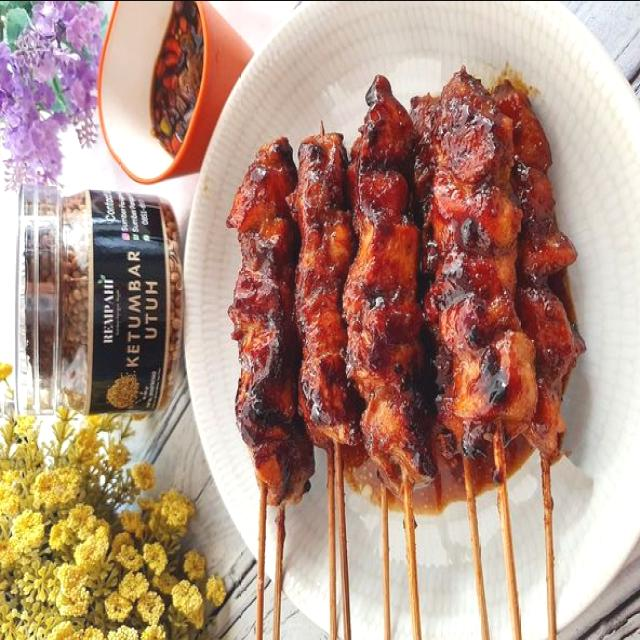sate: (221, 61, 597, 640)
